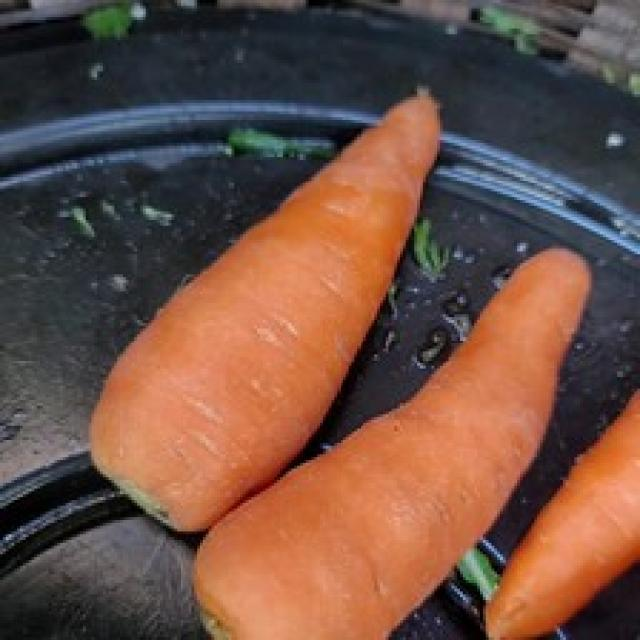carrot: (191, 243, 600, 640), (87, 89, 444, 526)
